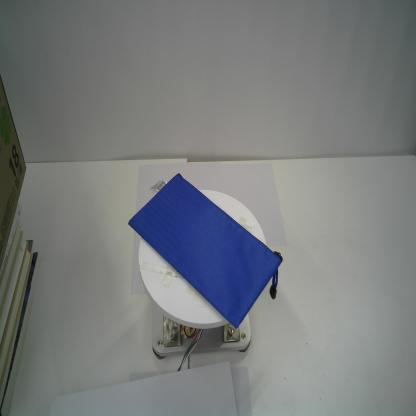Stationery: (125, 172, 286, 332)
